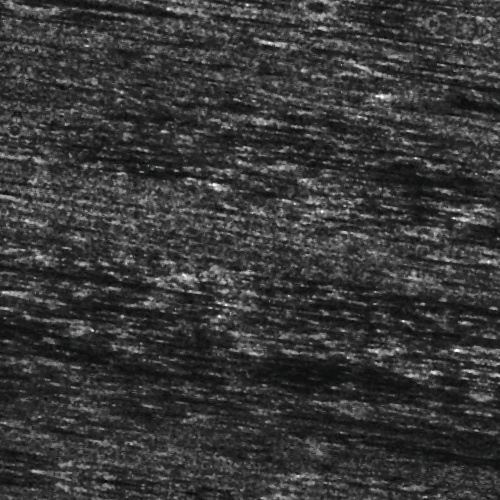object: (3, 318, 76, 327), (447, 182, 500, 187), (409, 204, 462, 209)
shadow: (40, 318, 190, 327), (0, 21, 140, 30), (0, 292, 104, 303), (436, 204, 500, 209), (0, 496, 65, 500), (474, 182, 500, 187)
